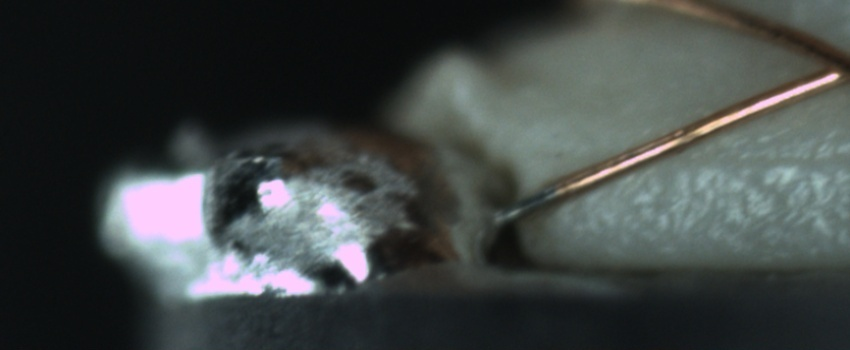CL: (794, 32, 849, 93)
DL: (679, 125, 849, 191)
TS: (487, 183, 553, 228)
TTCW: (491, 171, 576, 226)
